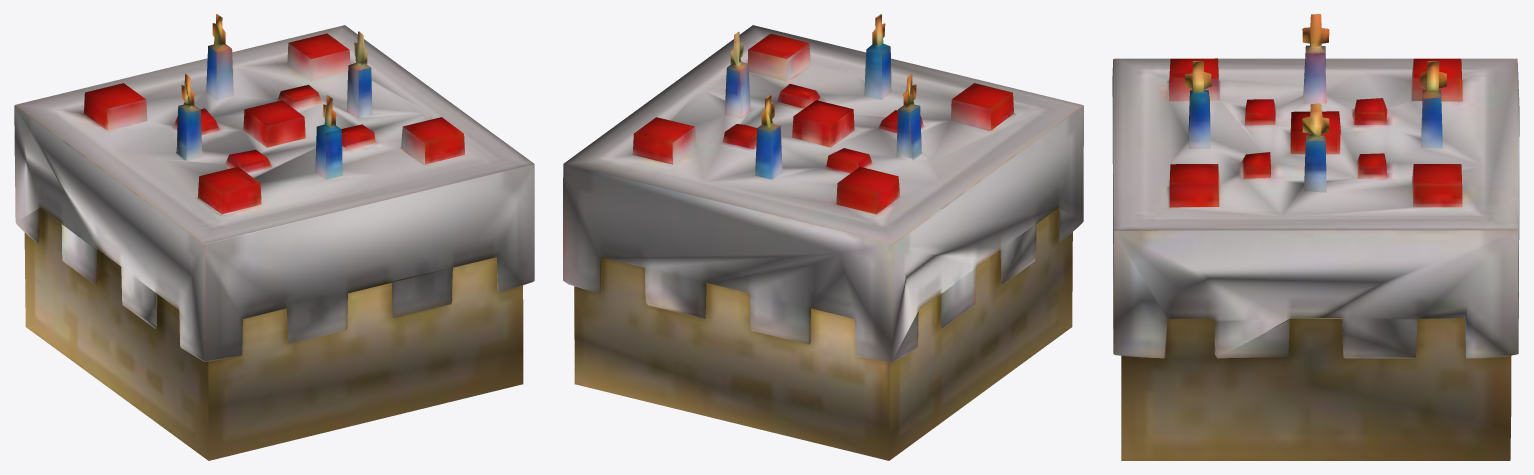
File: food-cake.glb
3 renders of one model, left to right at view 1: azimuth 30°, elevation 25°; view 2: azimuth 150°, elevation 25°; view 3: azimuth 270°, elevation 25°, orthographic. The views are drawn at different scales.
Parts seen in each view (by area): view 1: food-cake; view 2: food-cake; view 3: food-cake.
Part boxes in pixels (x1,y1,x2,y2): food-cake: (14,14,534,460); food-cake: (563,14,1083,460); food-cake: (1112,14,1519,460).
Bounding box in the file's own units: 0.82 × 0.712 × 0.8194.
1 material, 1 textured.
